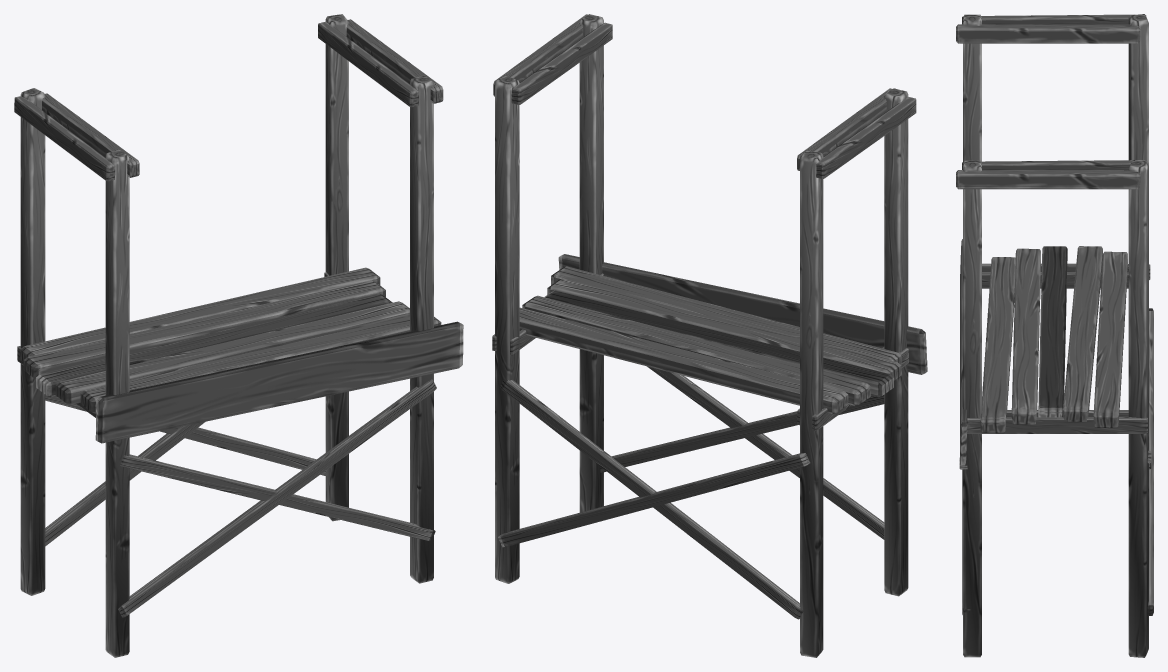
Rendered from SM_Plateforme01_CORRIGE.FBX.
3 renders of one model, left to right at view 1: azimuth 30°, elevation 25°; view 2: azimuth 150°, elevation 25°; view 3: azimuth 270°, elevation 25°, orthographic.
Parts seen in each view (by area): view 1: Plateforme01; view 2: Plateforme01; view 3: Plateforme01.
Boxes of the visible parts, x1,y1,x2,y2 form: Plateforme01: (14, 14, 463, 657); Plateforme01: (492, 14, 927, 657); Plateforme01: (956, 14, 1153, 657).
Bounding box in the file's own units: 398 × 506 × 185.
